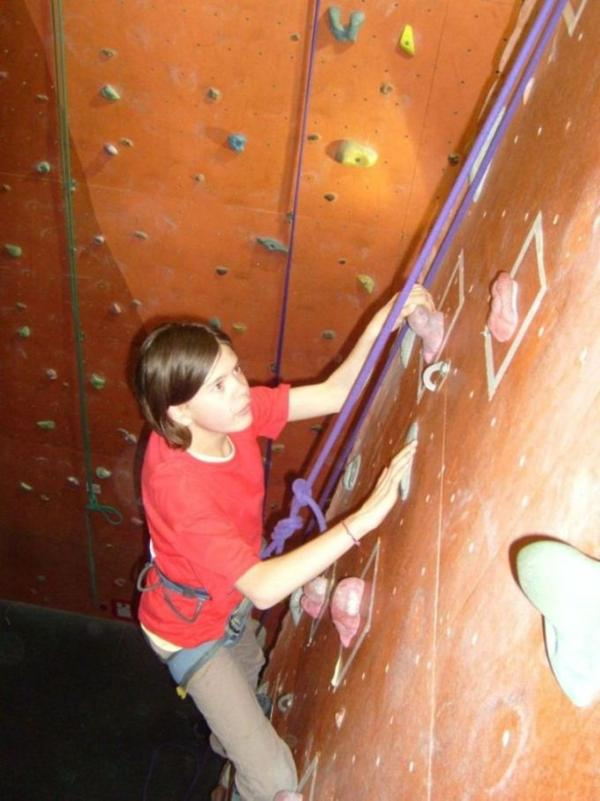person: (137, 282, 438, 801)
